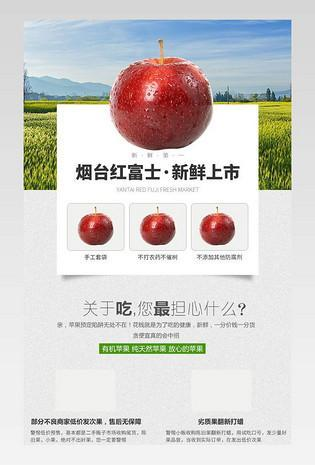apple: (106, 54, 212, 155), (197, 209, 236, 246), (139, 211, 175, 246), (76, 211, 112, 246)
